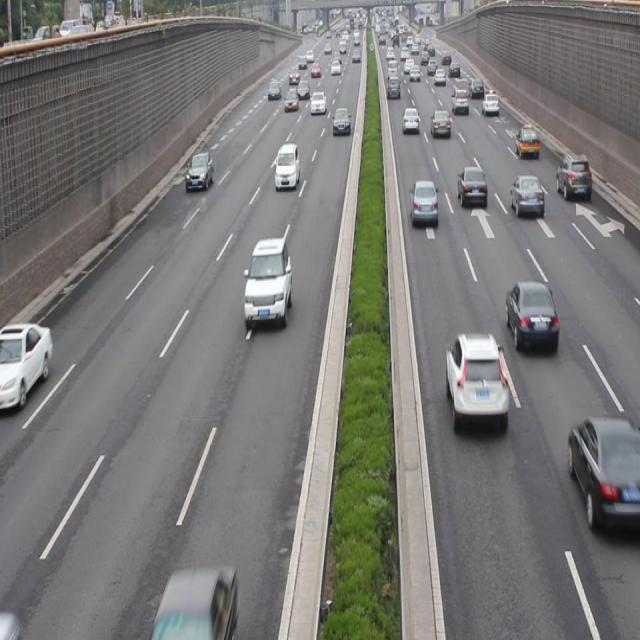car: (568, 417, 640, 528), (444, 332, 506, 422), (1, 319, 53, 411), (244, 237, 292, 328), (505, 280, 558, 352), (555, 151, 590, 201), (510, 174, 543, 220), (408, 178, 437, 226), (457, 166, 486, 210), (274, 143, 300, 190), (186, 150, 212, 191), (515, 126, 539, 161), (430, 109, 452, 141), (332, 107, 351, 135), (401, 105, 418, 136)
